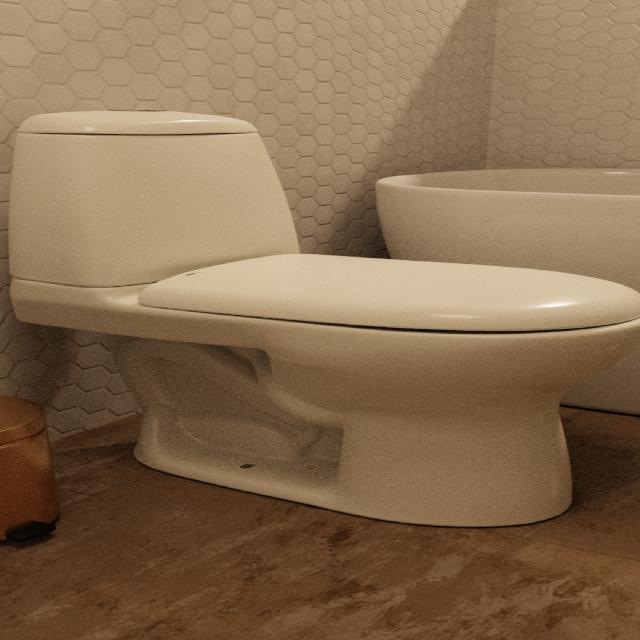toilet: (7, 109, 638, 527)
